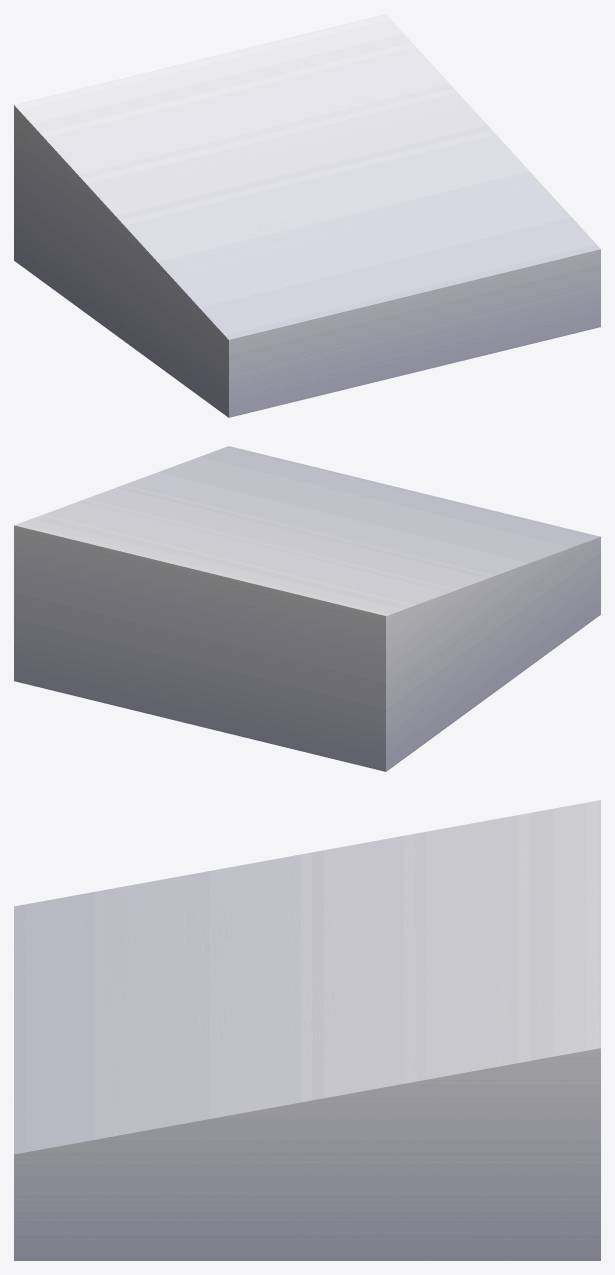
Rendered from tower-defense-kit--snow-tile-slope.glb.
3 renders of one model, top to bottom at view 1: azimuth 30°, elevation 25°; view 2: azimuth 150°, elevation 25°; view 3: azimuth 270°, elevation 25°, orthographic. The views are drawn at different scales.
Parts seen in each view (by area): view 1: snow-tile-slope; view 2: snow-tile-slope; view 3: snow-tile-slope.
Boxes of the visible parts, left/top/right/bottom form: snow-tile-slope: left=14, top=14, right=600, bottom=417; snow-tile-slope: left=14, top=446, right=600, bottom=771; snow-tile-slope: left=14, top=800, right=600, bottom=1260.
Size of the model in its own units: 1 by 0.4 by 1.
1 material, 1 textured.
